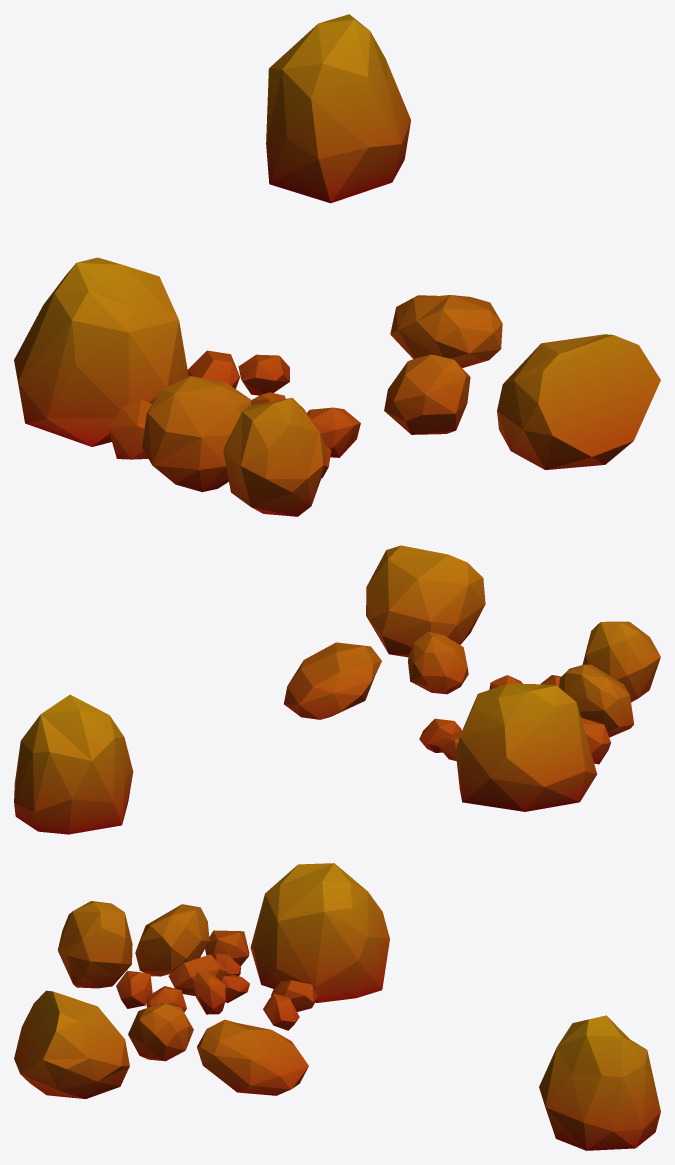
Rendered from rubble_1.glb.
The picture shows the model from 3 angles, top to bottom: view 1: azimuth 30°, elevation 25°; view 2: azimuth 150°, elevation 25°; view 3: azimuth 270°, elevation 25°; orthographic projection. The views are drawn at different scales.
Parts seen in each view (by area): view 1: rubble_1; view 2: rubble_1; view 3: rubble_1.
Boxes of the visible parts, x1,y1,x2,y2 form: rubble_1: (14,14,660,516); rubble_1: (14,545,660,834); rubble_1: (14,863,660,1150).
Size of what is drawn, in the model's own units: 3.16 by 0.8 by 4.13.
